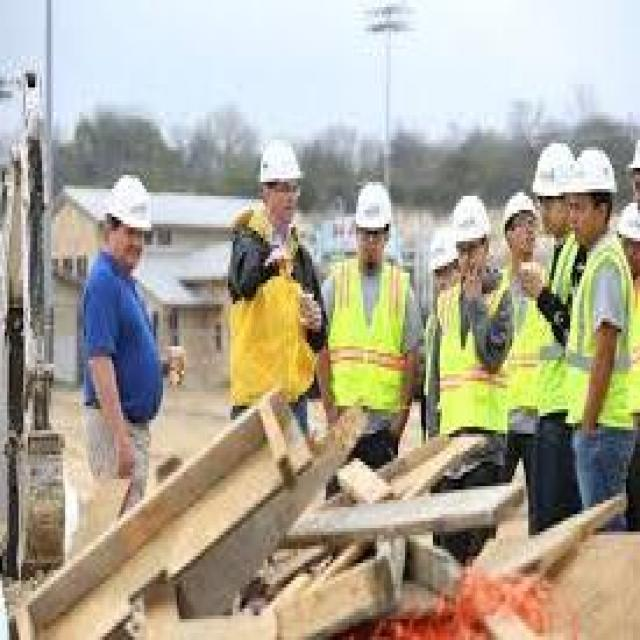Reflective-Jacket: (219, 206, 316, 420), (324, 258, 414, 426)
Safety-Helmet: (98, 164, 160, 245), (252, 133, 308, 196), (528, 140, 577, 199), (570, 143, 619, 200), (352, 175, 396, 238), (447, 189, 491, 248), (623, 118, 640, 178), (619, 200, 640, 248)
